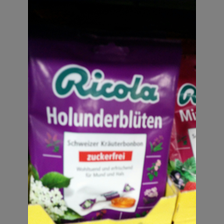candy: (29, 56, 178, 224)
